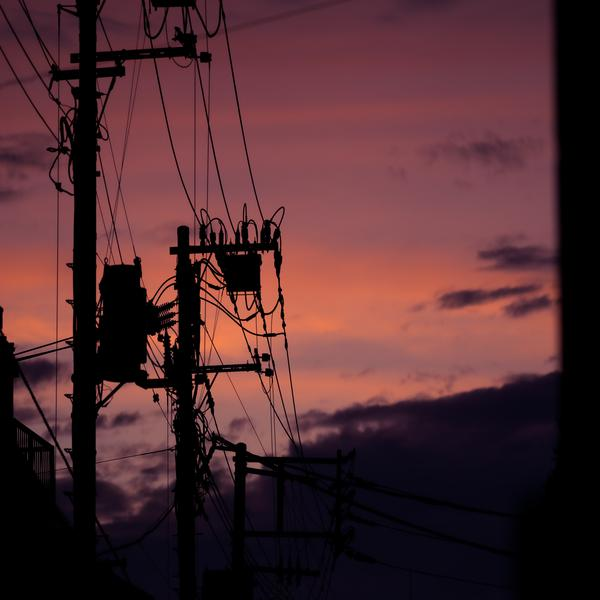utility_pole: (38, 2, 213, 188), (164, 200, 291, 333), (207, 424, 276, 515)
